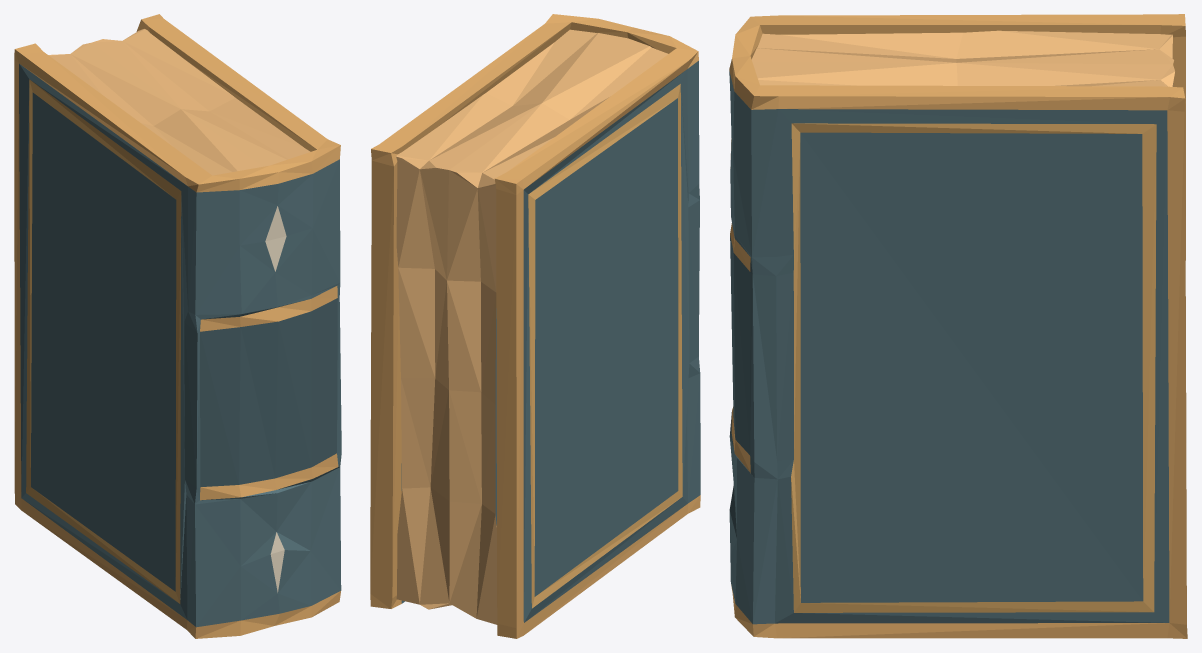
Rendered from SFHW_Book_019.fbx.
The picture shows the model from 3 angles, left to right: view 1: azimuth 30°, elevation 25°; view 2: azimuth 150°, elevation 25°; view 3: azimuth 270°, elevation 25°; orthographic projection. The views are drawn at different scales.
Parts seen in each view (by area): view 1: SFHW_Book_019; view 2: SFHW_Book_019; view 3: SFHW_Book_019.
Part boxes in pixels (bbox=[...]): SFHW_Book_019: bbox=[14, 14, 341, 638]; SFHW_Book_019: bbox=[370, 14, 700, 638]; SFHW_Book_019: bbox=[729, 14, 1187, 638].
Bounding box in the file's own units: 10.63 × 31.55 × 24.06.
